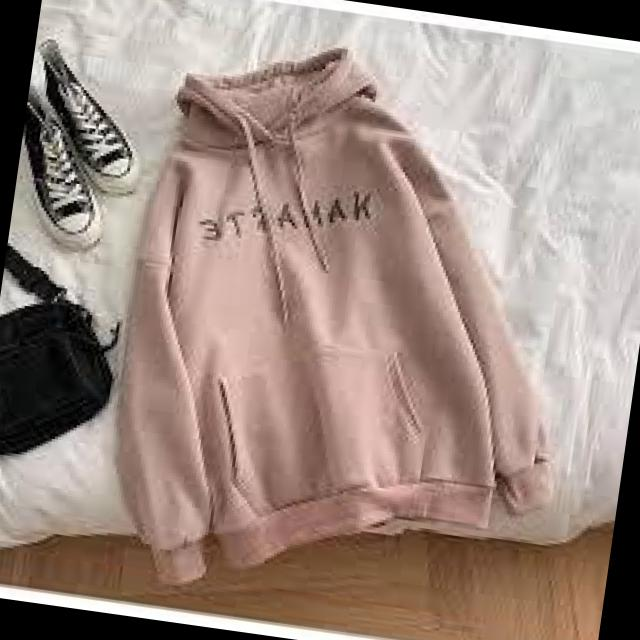sweater: (113, 64, 570, 578)
